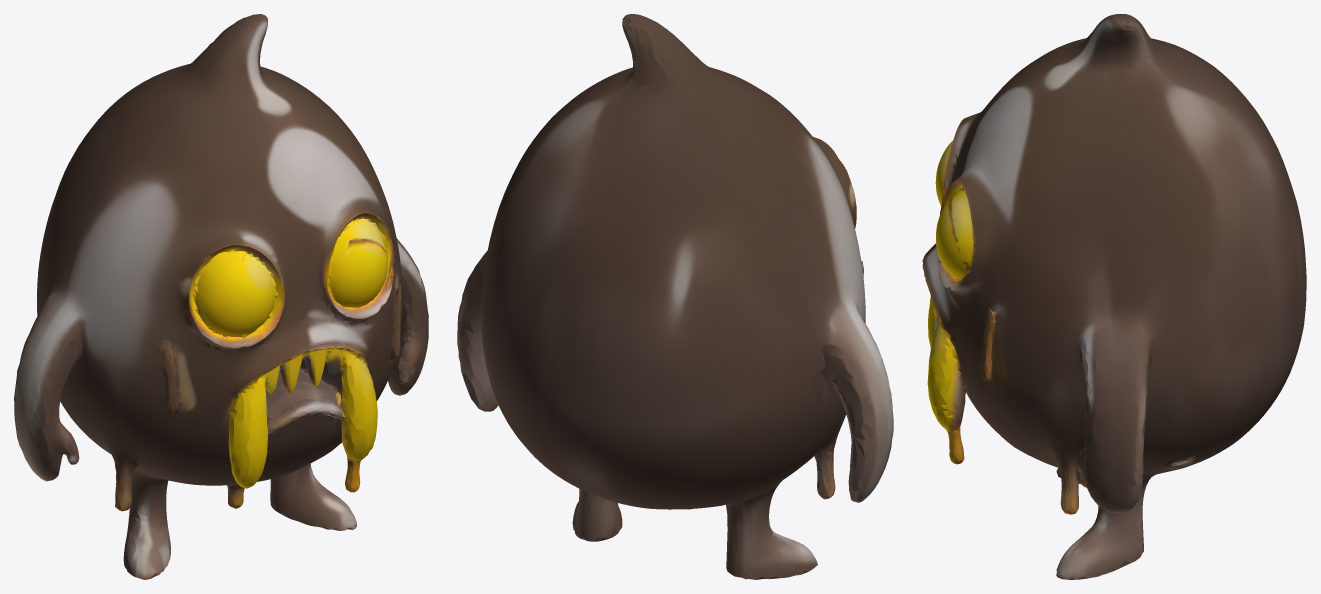
The model's file is GreaseGlob.glb.
The picture shows the model from 3 angles, left to right: view 1: azimuth 30°, elevation 25°; view 2: azimuth 150°, elevation 25°; view 3: azimuth 270°, elevation 25°; orthographic projection. The views are drawn at different scales.
Visible parts, largest first — view 1: GreaseGlob; view 2: GreaseGlob; view 3: GreaseGlob.
Part boxes in pixels (x1=…): GreaseGlob: x1=14, y1=14, x2=428, y2=579; GreaseGlob: x1=457, y1=14, x2=893, y2=579; GreaseGlob: x1=922, y1=14, x2=1306, y2=579.
Size of the model in its own units: 1.57 by 1.9 by 1.26.
1 material, 1 textured.
